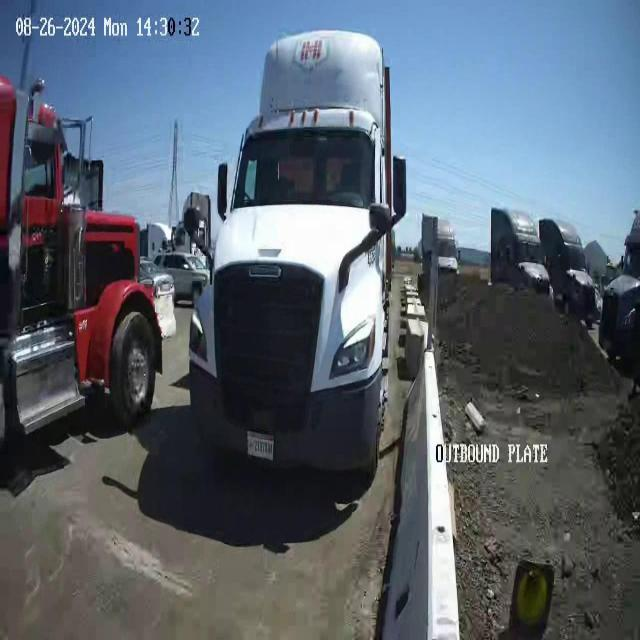TRUCK_IN: (1, 74, 163, 454)
TRUCK_OUT: (184, 9, 410, 530)
